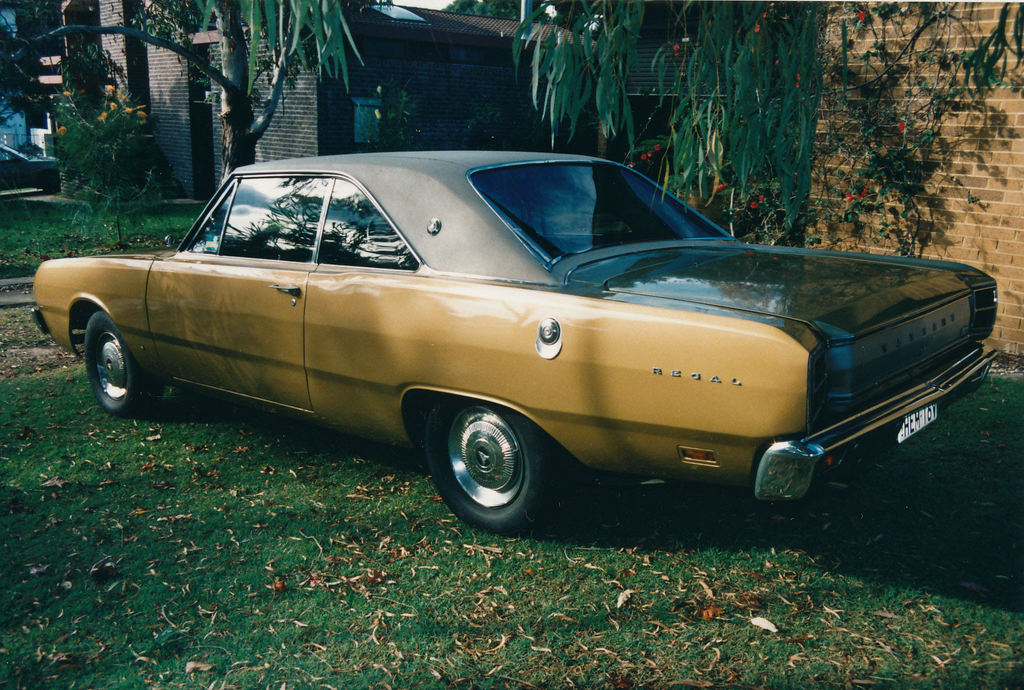Tree: (443, 0, 1023, 258), (0, 0, 392, 188), (0, 0, 63, 124)
